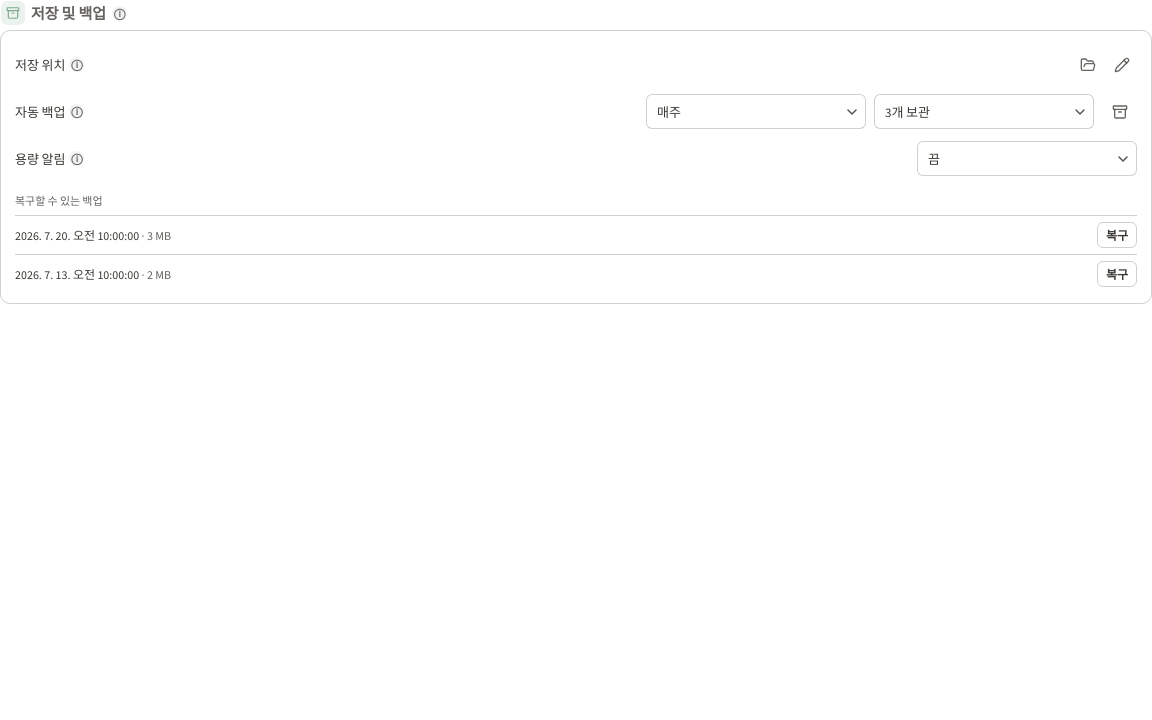
Test case: StorageBackupCard › 복구 목록 복원 › 복구 목록은 보관 개수만큼 가져오고, 복구는 확인창을 거쳐 backup_restore 로 간다
Expected: the number of elements with test id "settings-backup-list-row" is 2, [15,215,1137,254]; [15,254,1137,293]
Click the button with test id "settings-backup-restore" in the row of "3 MB" at x=1117, y=235, box [1097,222,1137,248]
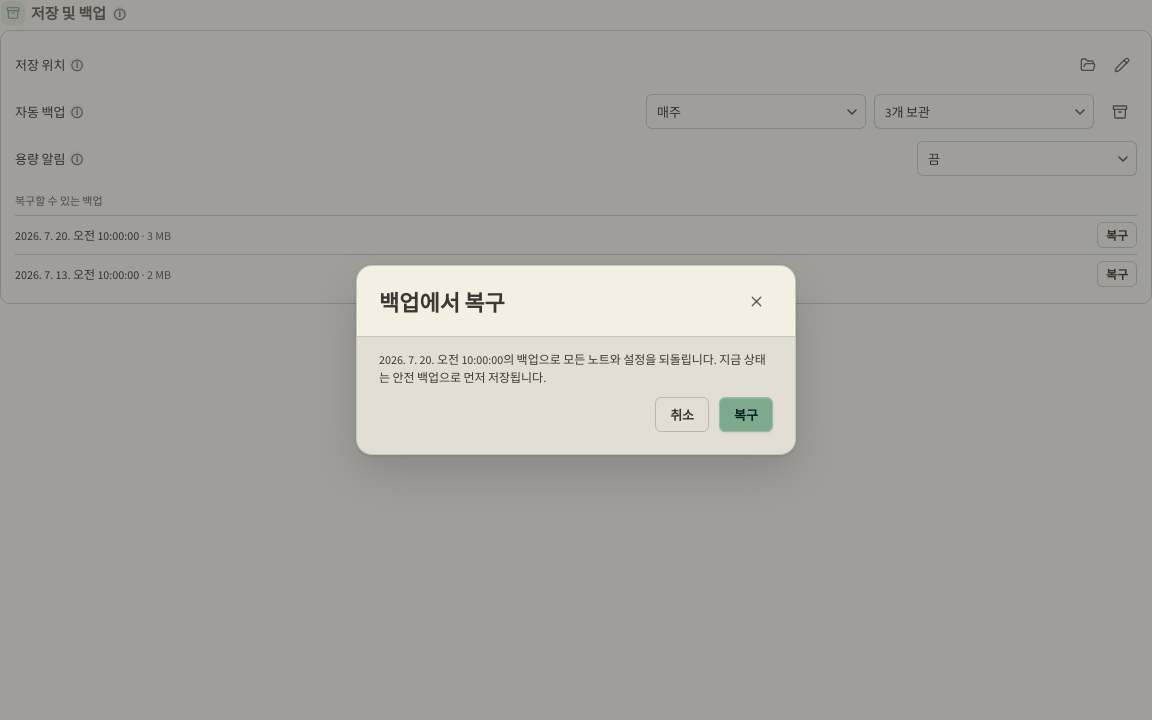
Click the button with test id "settings-backup-restore-confirm" at x=746, y=414, box [719,397,773,432]
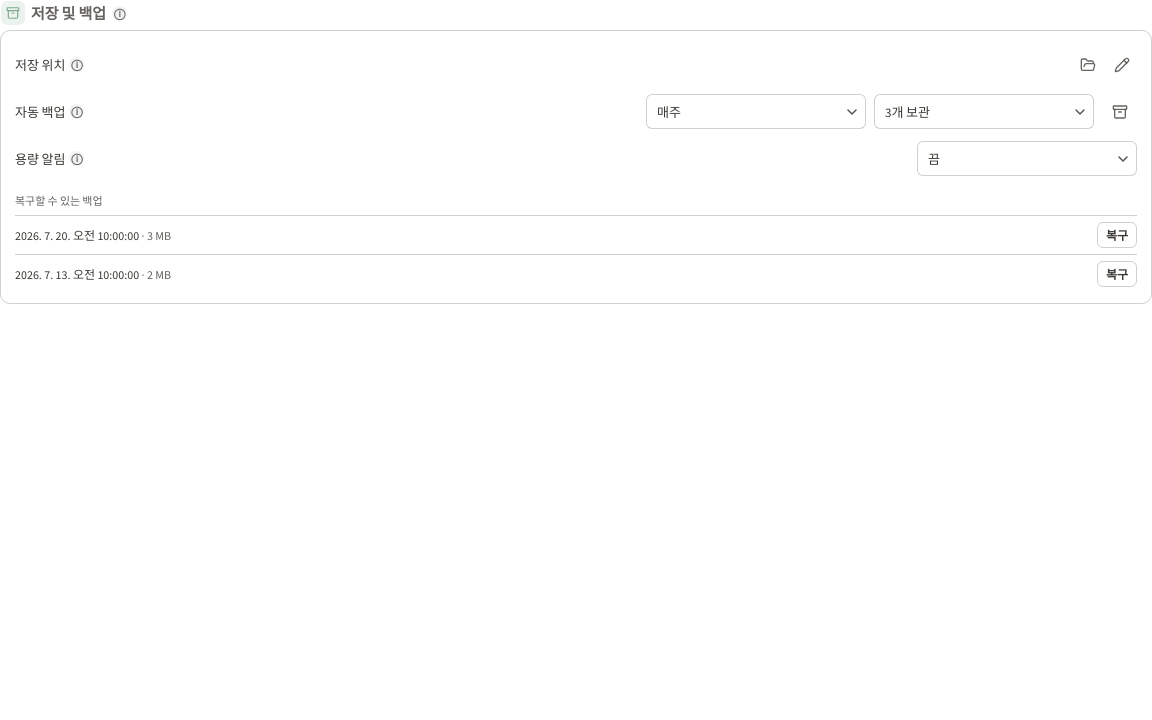
Expected: the button with test id "settings-backup-restore-confirm" is gone
